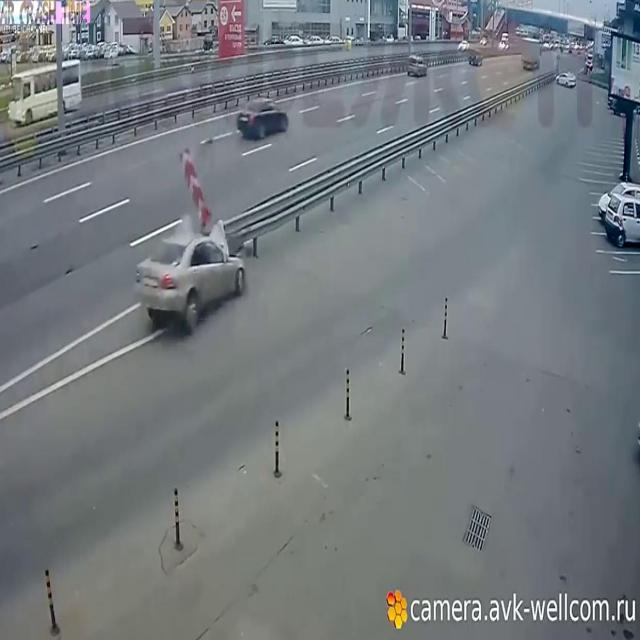accident: (122, 187, 254, 349)
